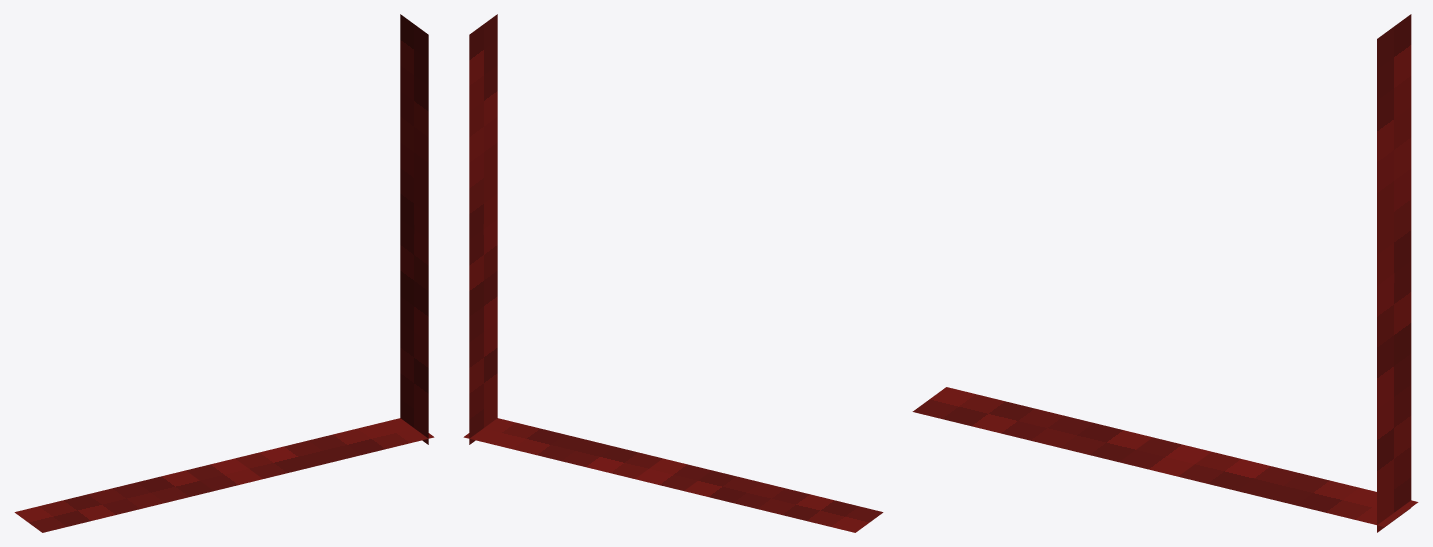
Rendered from dust_2100.gltf.
3 views of the same model, side by side, from view 1: azimuth 30°, elevation 25°; view 2: azimuth 150°, elevation 25°; view 3: azimuth 330°, elevation 25° (orthographic). The views are drawn at different scales.
Parts seen in each view (by area): view 1: dust_2100; view 2: dust_2100; view 3: dust_2100.
Part boxes in pixels (<box>): dust_2100: <box>14,14,434,532</box>; dust_2100: <box>463,14,883,532</box>; dust_2100: <box>912,14,1418,532</box>.
Bounding box in the file's own units: 1 × 1 × 0.125.
1 material, 1 textured.
